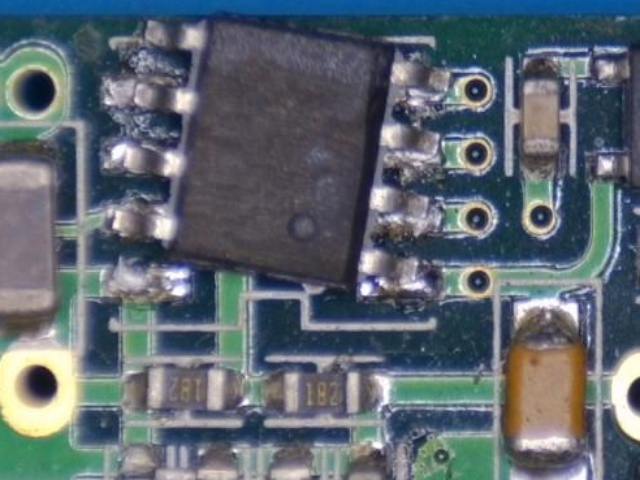pcb_defect: (101, 16, 450, 296), (110, 445, 195, 480)
